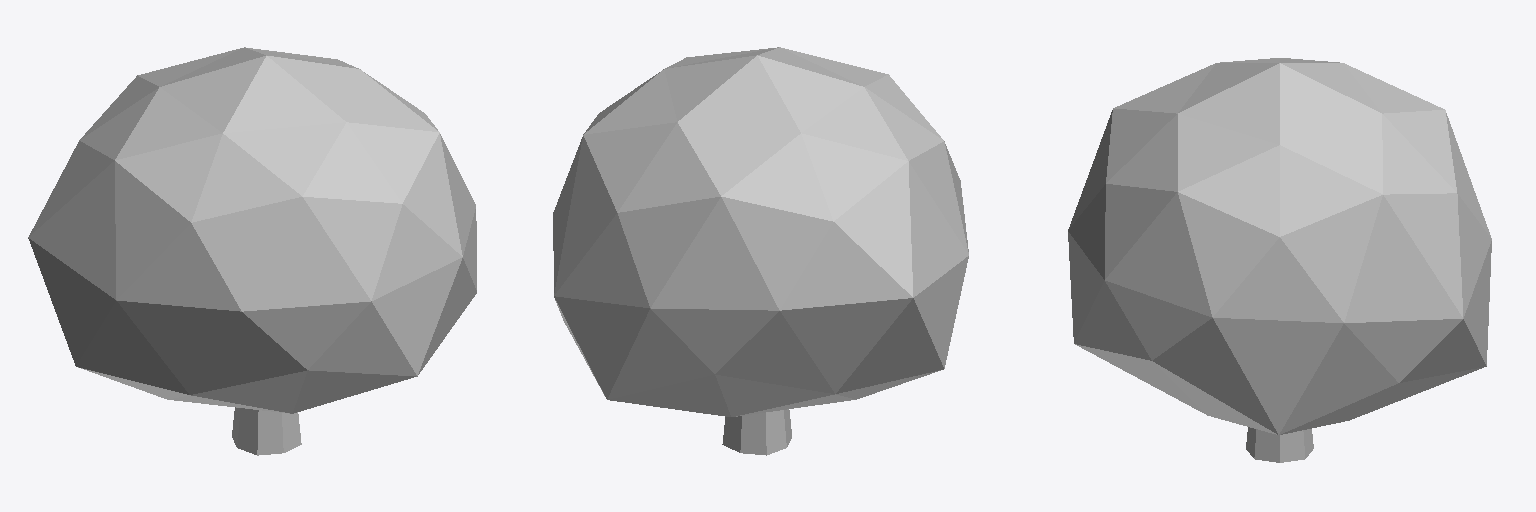
File: bush3.obj
3 views of the same model, side by side, from view 1: azimuth 30°, elevation 25°; view 2: azimuth 150°, elevation 25°; view 3: azimuth 270°, elevation 25° (orthographic).
Visible parts, largest first — view 1: stalk_Cube.001; view 2: stalk_Cube.001; view 3: stalk_Cube.001.
Boxes of the visible parts, box(x1,y1,x2,y2) form: stalk_Cube.001: box(28, 47, 476, 455); stalk_Cube.001: box(553, 47, 968, 455); stalk_Cube.001: box(1068, 58, 1491, 462).
Size of the model in its own units: 0.632 by 0.6409 by 0.622.